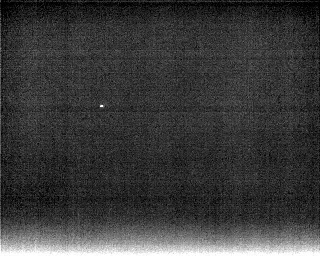BIRD: (98, 102, 105, 110)
